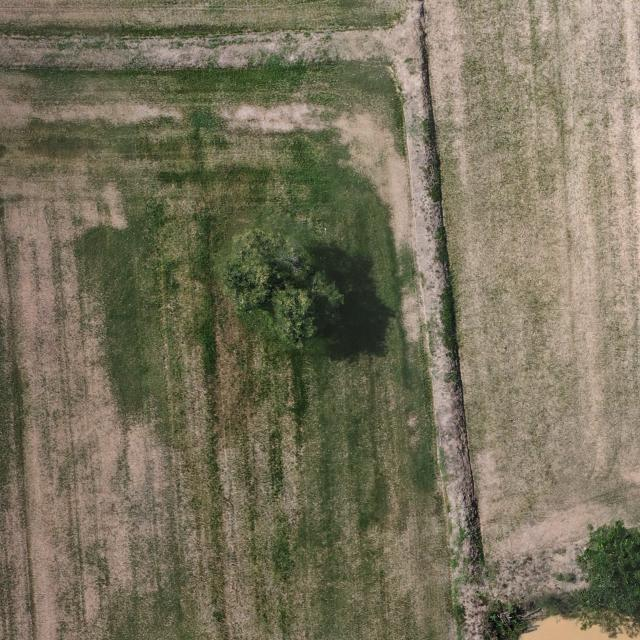Tree: (222, 229, 343, 345), (570, 517, 640, 617)
